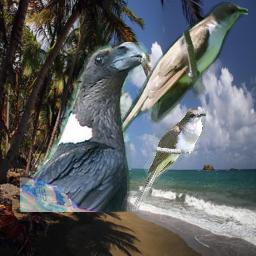Crow: (20, 42, 148, 212)
Cuckoo: (95, 2, 248, 165), (131, 109, 206, 211)
